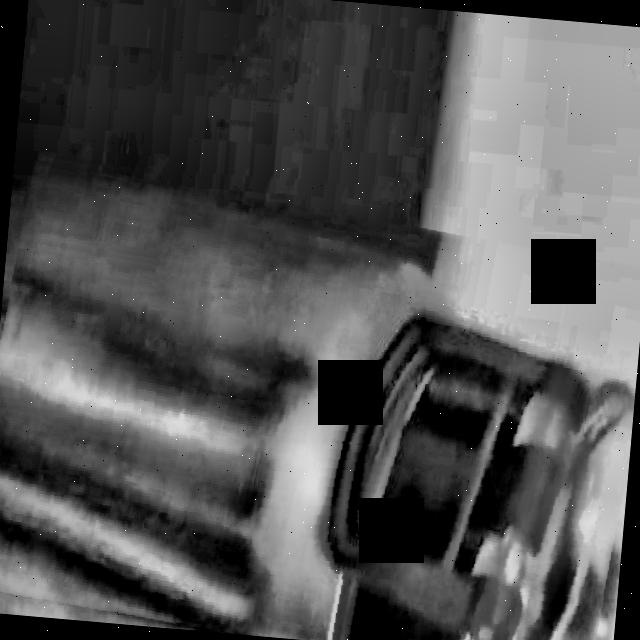bottle: (0, 158, 633, 640)
